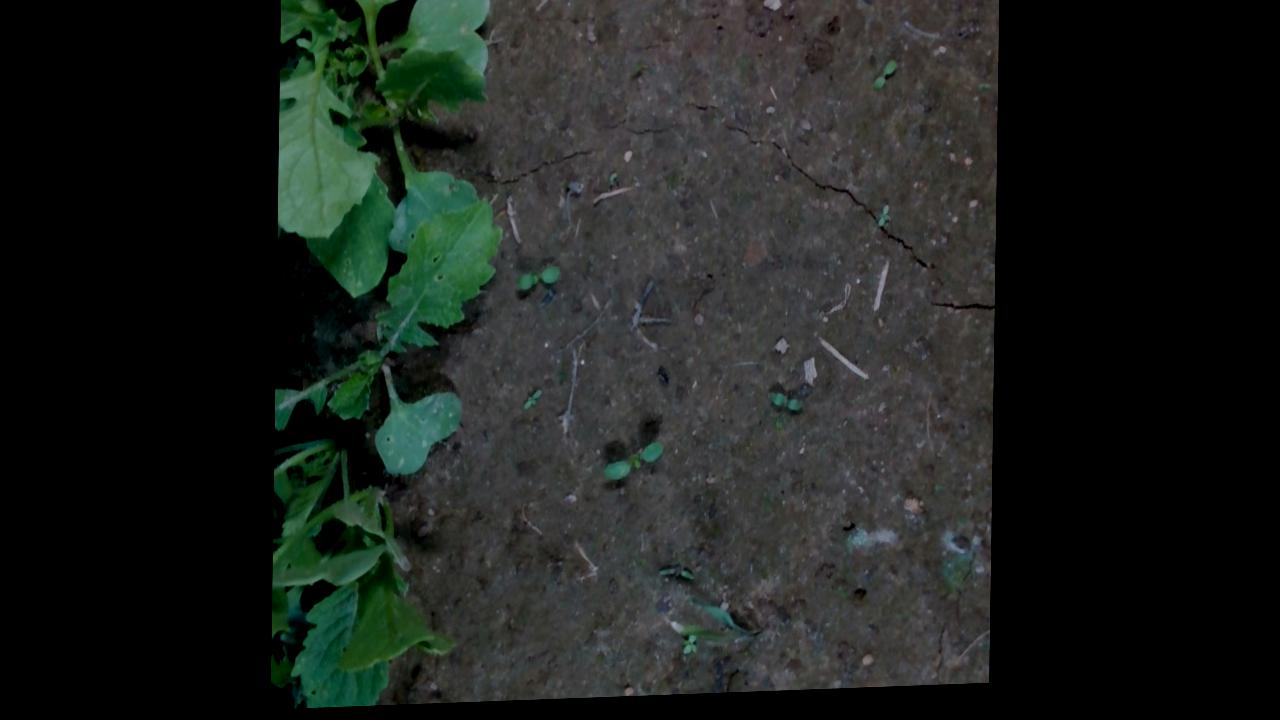weed: (601, 442, 668, 488), (522, 390, 544, 415)
